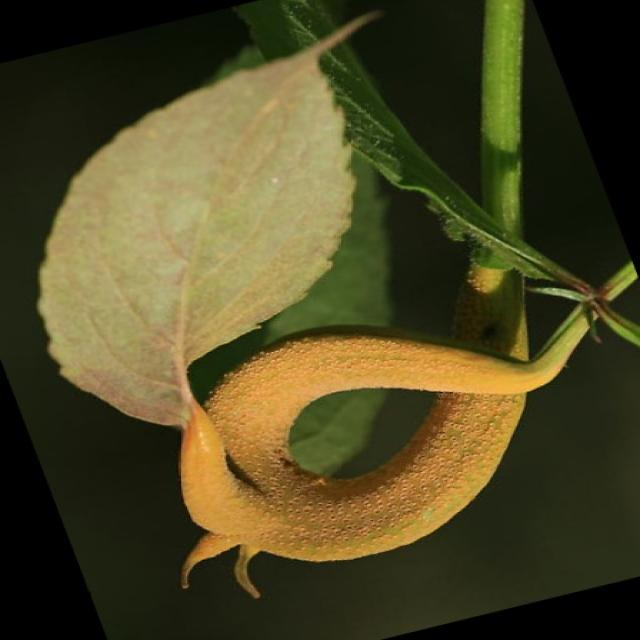Elderberry_rust: (173, 324, 534, 599)
